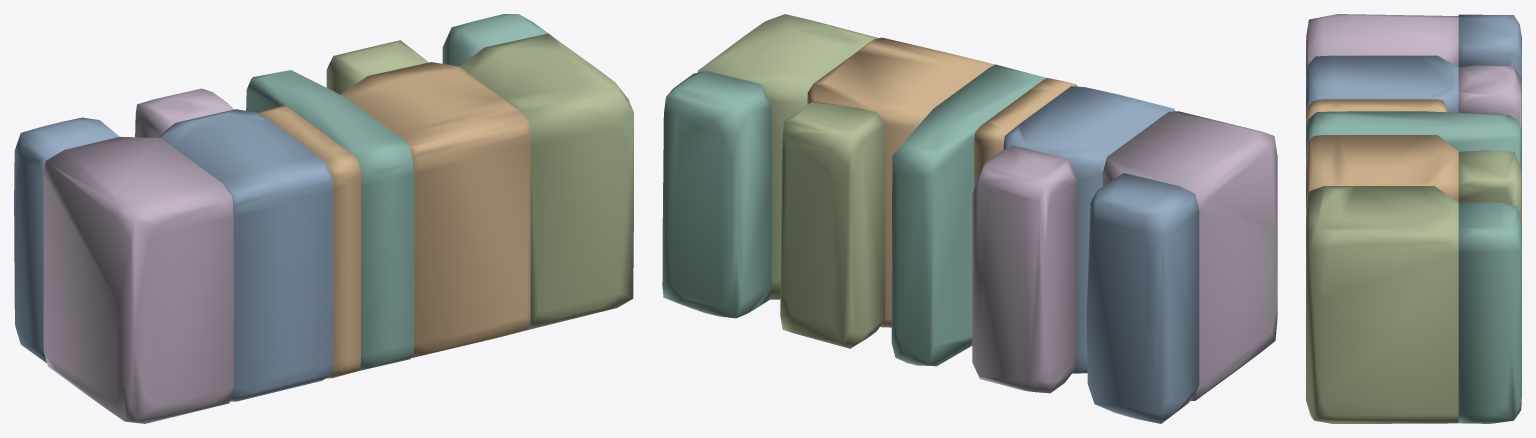
The picture shows the model from 3 angles, left to right: view 1: azimuth 30°, elevation 25°; view 2: azimuth 150°, elevation 25°; view 3: azimuth 270°, elevation 25°; orthographic projection. The views are drawn at different scales.
Bounding box in the file's own units: 1.8 × 0.7257 × 0.7293.
